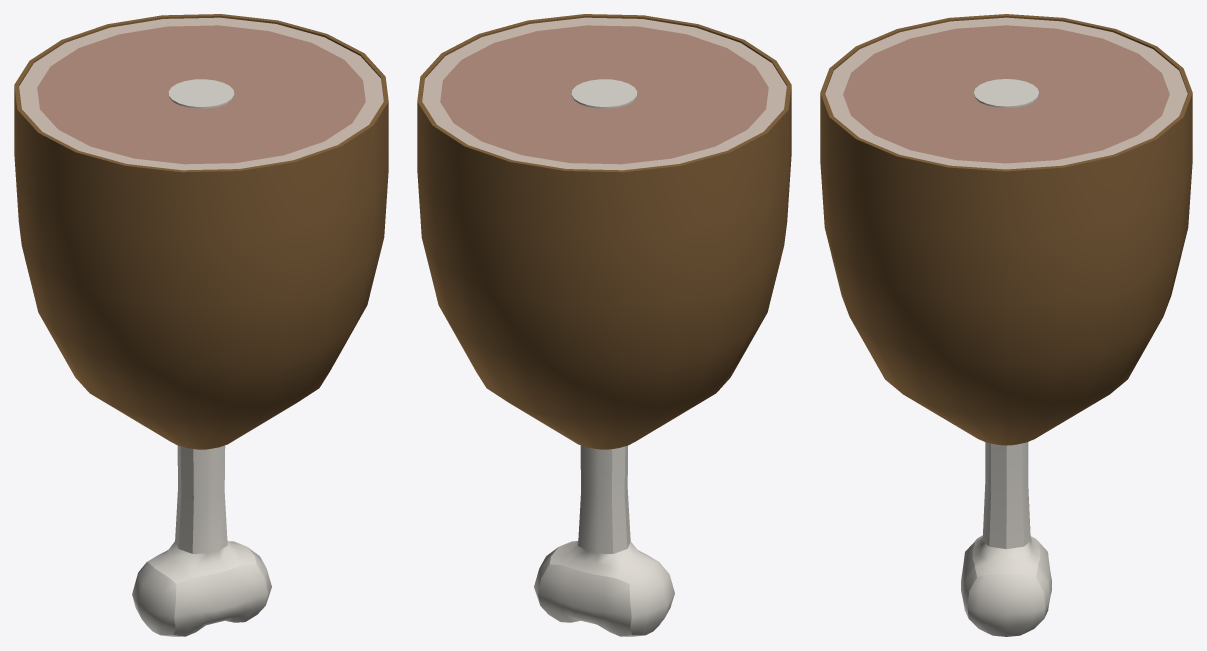
File: DragonHaunch.fbx
The picture shows the model from 3 angles, left to right: view 1: azimuth 30°, elevation 25°; view 2: azimuth 150°, elevation 25°; view 3: azimuth 270°, elevation 25°; orthographic projection.
Visible parts, largest first — view 1: DragonHaunch; view 2: DragonHaunch; view 3: DragonHaunch.
Part boxes in pixels (bbox=[...]): DragonHaunch: bbox=[14, 14, 388, 636]; DragonHaunch: bbox=[417, 14, 791, 636]; DragonHaunch: bbox=[820, 14, 1192, 636].
Size of the model in its own units: 50 by 77.81 by 50.
